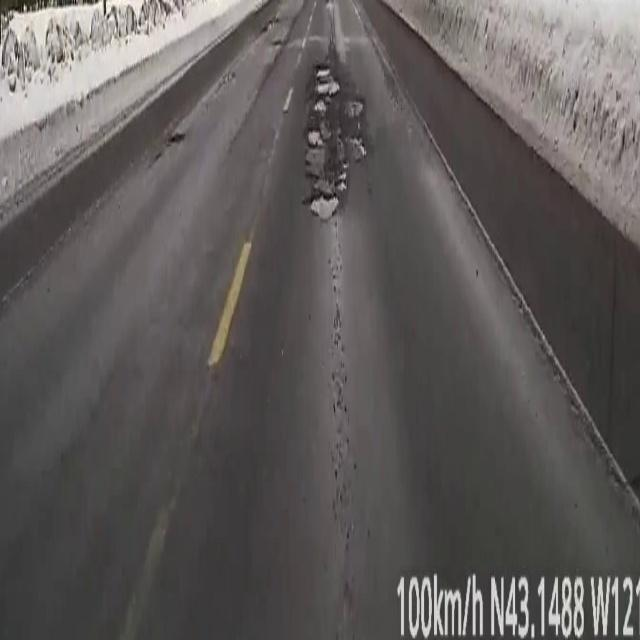pothole: (301, 0, 369, 225), (164, 131, 186, 145)
